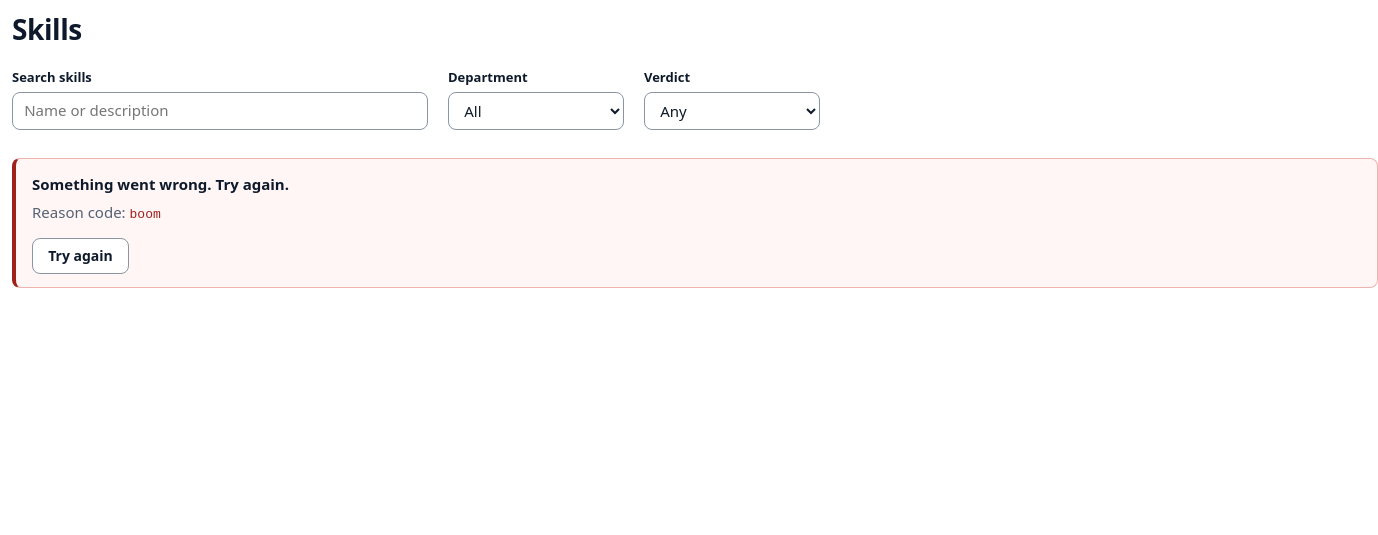
Test: Catalog › shows an error with retry that reloads
expect the message "Something went wrong. Try again. Reason code: boom Try again" is shown: met, box [12,158,1377,288]
Click the button "Try again" at (80, 256), box [32,238,129,274]
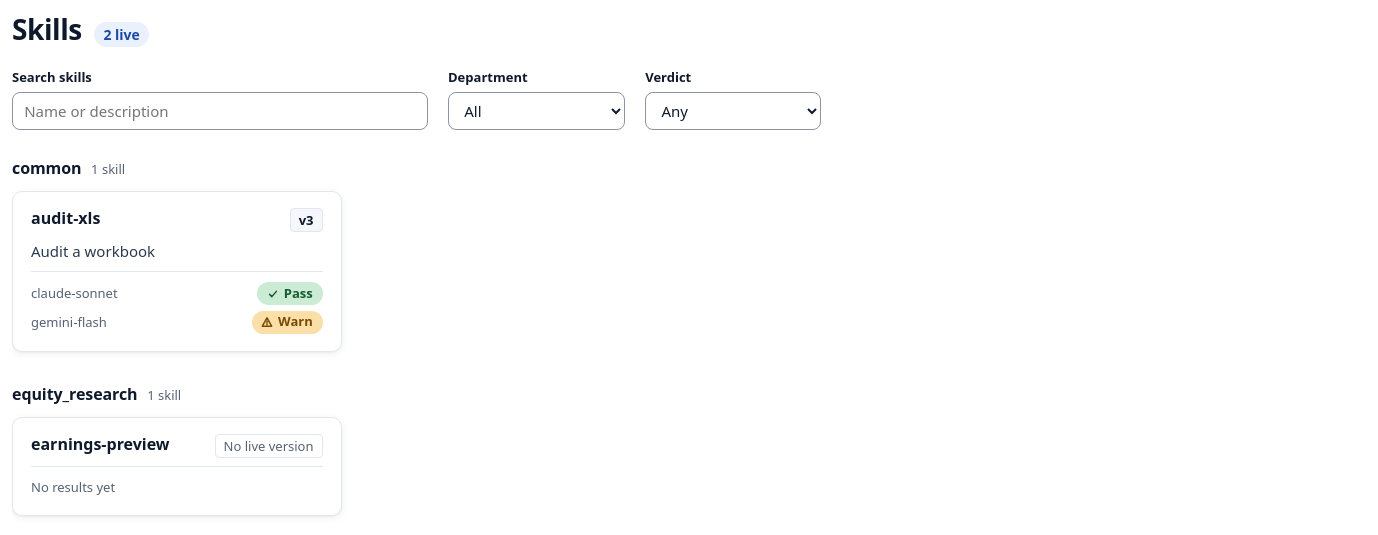
expect the link "audit-xls" is shown: met, box [31,207,100,229]
